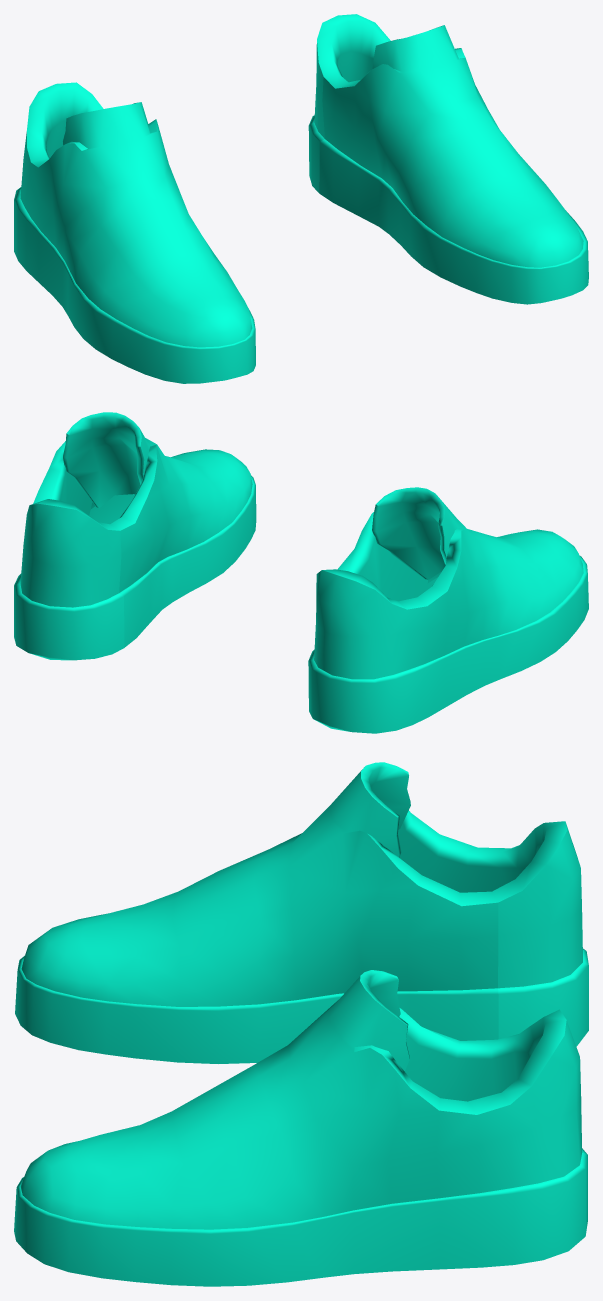
The model's file is shoes.glb.
The picture shows the model from 3 angles, top to bottom: view 1: azimuth 30°, elevation 25°; view 2: azimuth 150°, elevation 25°; view 3: azimuth 270°, elevation 25°; orthographic projection. The views are drawn at different scales.
Parts seen in each view (by area): view 1: shoes; view 2: shoes; view 3: shoes.
Part boxes in pixels (left/top/right/bottom): shoes: left=14, top=14, right=588, bottom=383; shoes: left=14, top=412, right=588, bottom=733; shoes: left=14, top=762, right=588, bottom=1286.
Size of the model in its own units: 0.4741 by 0.1823 by 0.3716.
